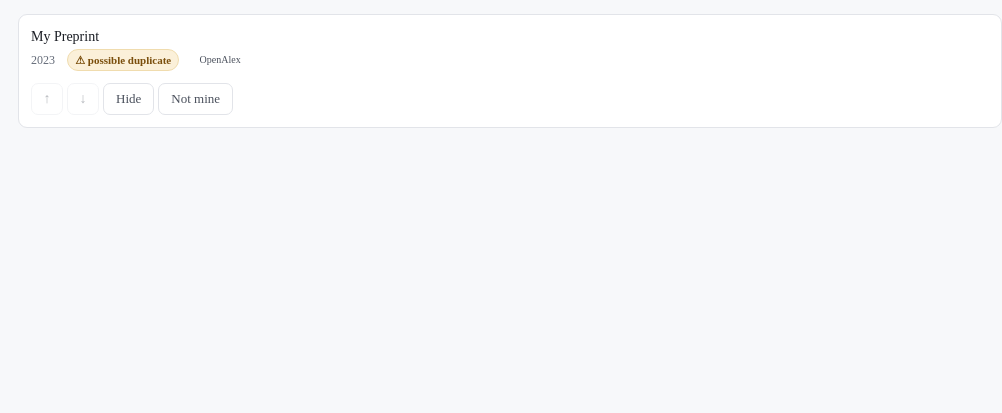
Scenario: ItemRow — duplicate comparison › labels the keep-everything action 'Keep both' for a 2-member group
Click the button "⚠ possible duplicate" at (123, 60), box [67, 49, 179, 71]
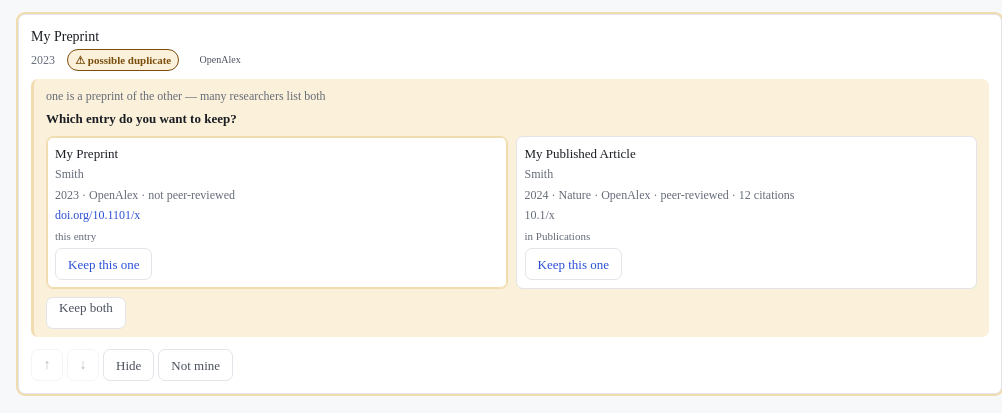
Expected: the button "Keep both" is shown, [46, 297, 126, 329]
